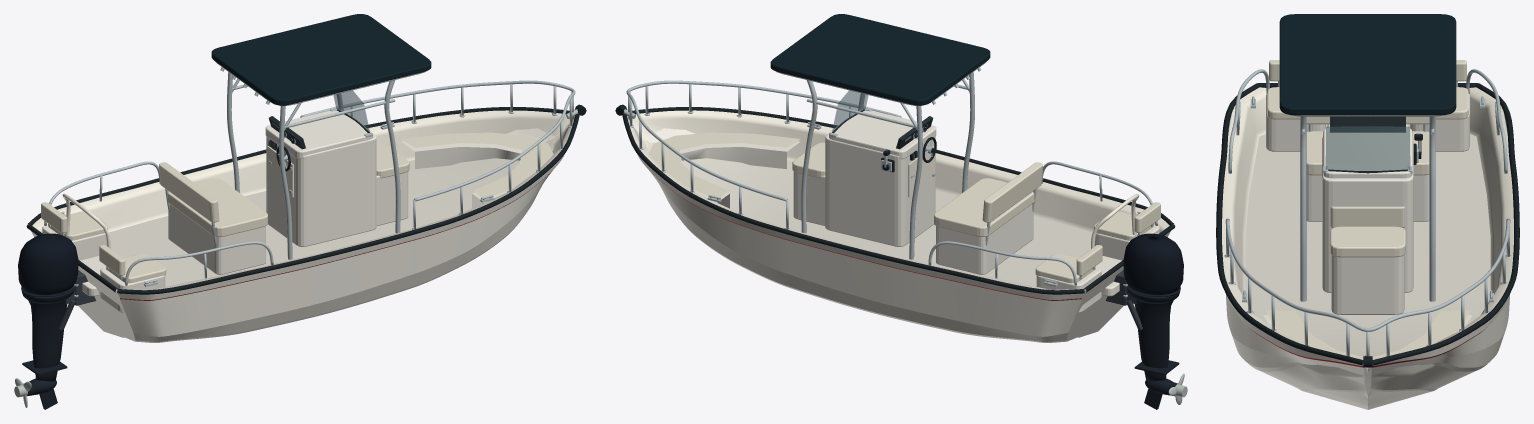
The model's file is boston-whaler-190.glb.
3 renders of one model, left to right at view 1: azimuth 30°, elevation 25°; view 2: azimuth 150°, elevation 25°; view 3: azimuth 270°, elevation 25°, orthographic. The views are drawn at different scales.
Parts seen in each view (by area): view 1: Gelcoat surfaces, T-top canvas surfaces, Deck liner surfaces.002, Seat upholstery surfaces, Cockpit sole surfaces, Stainless steel surfaces, Rubber surfaces, Lower unit surfaces, Outboard cowling surfaces, Acrylic windshield surfaces, Hull trim surfaces; view 2: Gelcoat surfaces, T-top canvas surfaces, Deck liner surfaces.002, Seat upholstery surfaces, Cockpit sole surfaces, Stainless steel surfaces, Rubber surfaces, Lower unit surfaces, Outboard cowling surfaces, Acrylic windshield surfaces, Hull trim surfaces; view 3: Gelcoat surfaces, Cockpit sole surfaces, T-top canvas surfaces, Deck liner surfaces.002, Seat upholstery surfaces, Stainless steel surfaces, Rubber surfaces, Acrylic windshield surfaces, Helm panel surfaces, Hull trim surfaces.
Part boxes in pixels (bbox=[...]): Gelcoat surfaces: bbox=[31, 109, 574, 342]; T-top canvas surfaces: bbox=[211, 14, 431, 105]; Deck liner surfaces.002: bbox=[32, 110, 574, 290]; Seat upholstery surfaces: bbox=[41, 132, 553, 283]; Cockpit sole surfaces: bbox=[109, 140, 555, 286]; Stainless steel surfaces: bbox=[44, 61, 575, 286]; Rubber surfaces: bbox=[26, 104, 586, 294]; Lower unit surfaces: bbox=[21, 287, 74, 409]; Outboard cowling surfaces: bbox=[18, 233, 78, 294]; Acrylic windshield surfaces: bbox=[333, 90, 369, 132]; Hull trim surfaces: bbox=[120, 174, 548, 300]; Gelcoat surfaces: bbox=[627, 109, 1170, 342]; T-top canvas surfaces: bbox=[770, 14, 990, 105]; Deck liner surfaces.002: bbox=[627, 110, 1169, 290]; Seat upholstery surfaces: bbox=[648, 132, 1160, 283]; Cockpit sole surfaces: bbox=[646, 140, 1092, 286]; Stainless steel surfaces: bbox=[626, 61, 1157, 286]; Rubber surfaces: bbox=[615, 104, 1175, 294]; Lower unit surfaces: bbox=[1127, 287, 1180, 409]; Outboard cowling surfaces: bbox=[1123, 233, 1183, 294]; Acrylic windshield surfaces: bbox=[832, 90, 868, 132]; Hull trim surfaces: bbox=[653, 174, 1081, 300]; Gelcoat surfaces: bbox=[1226, 94, 1509, 409]; Cockpit sole surfaces: bbox=[1245, 126, 1490, 356]; T-top canvas surfaces: bbox=[1279, 14, 1456, 115]; Deck liner surfaces.002: bbox=[1222, 87, 1513, 377]; Seat upholstery surfaces: bbox=[1265, 60, 1470, 359]; Stainless steel surfaces: bbox=[1224, 69, 1511, 368]; Rubber surfaces: bbox=[1216, 83, 1519, 367]; Acrylic windshield surfaces: bbox=[1325, 126, 1410, 171]; Helm panel surfaces: bbox=[1330, 116, 1405, 132]; Hull trim surfaces: bbox=[1251, 329, 1484, 367].
Size of the model in its own units: 6.65 by 3.19 by 2.49.
